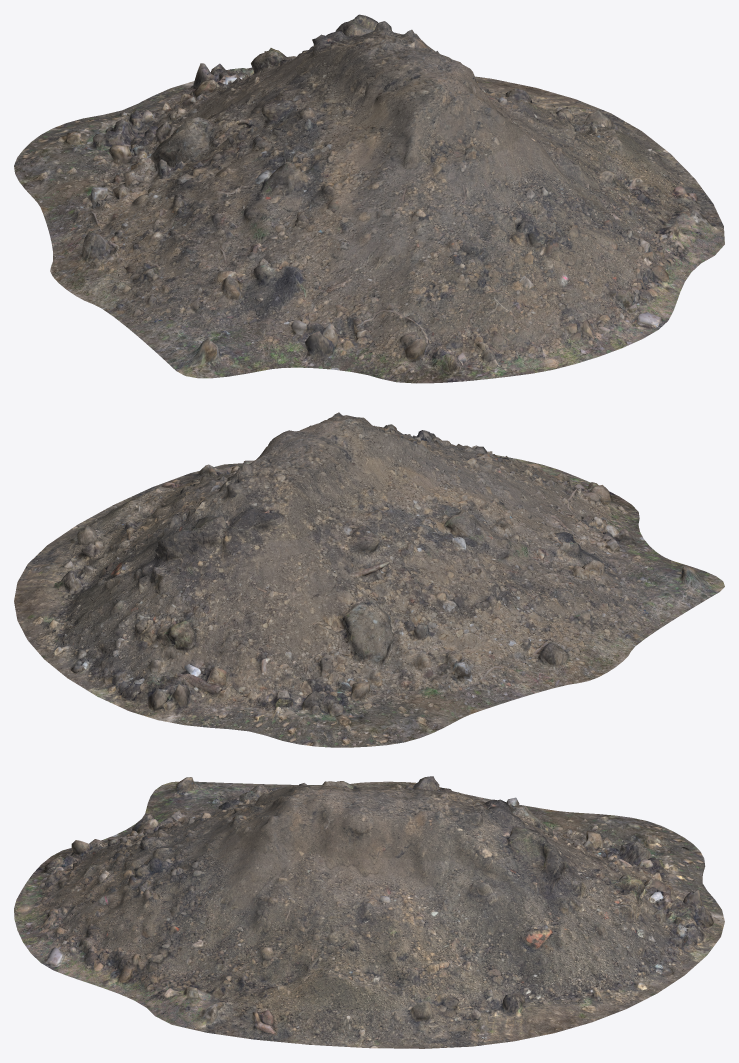
File: Clay.fbx
3 views of the same model, one above another, from view 1: azimuth 30°, elevation 25°; view 2: azimuth 150°, elevation 25°; view 3: azimuth 270°, elevation 25° (orthographic). The views are drawn at different scales.
Visible parts, largest first — view 1: Clay; view 2: Clay; view 3: Clay.
Part boxes in pixels (x1=…): Clay: x1=14, y1=14, x2=724, y2=383; Clay: x1=14, y1=412, x2=724, y2=747; Clay: x1=14, y1=776, x2=724, y2=1048.
Size of the model in its own units: 636 by 158 by 715.
